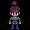Victim: (6, 0, 25, 30)
